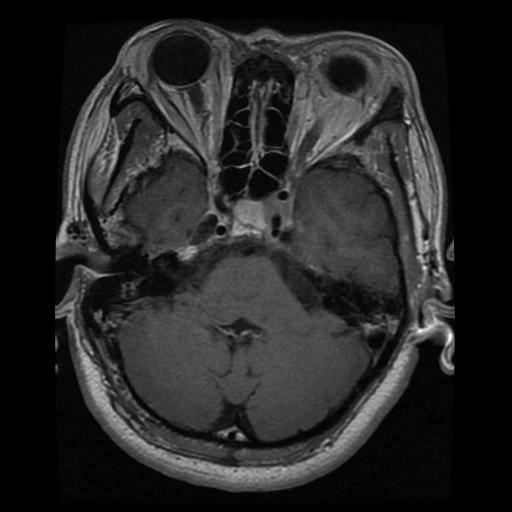Tumour-Pituitary: (215, 203, 297, 246)
